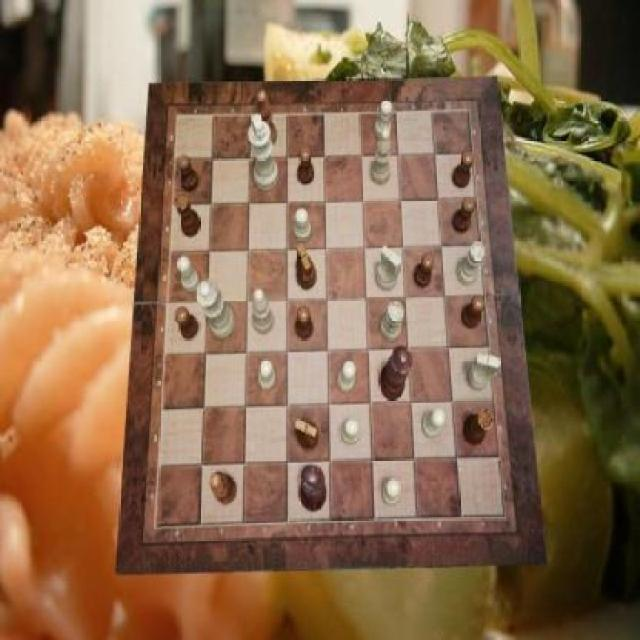bishop: (257, 89, 277, 147), (210, 470, 238, 504)
black-bishop: (300, 466, 328, 512)
black-king: (296, 243, 316, 289), (294, 418, 318, 451)
black-knight: (452, 151, 475, 188), (176, 306, 200, 340), (462, 296, 486, 330), (452, 199, 476, 233), (177, 156, 199, 192), (414, 252, 434, 287), (297, 146, 314, 184), (295, 305, 313, 339)
black-pawn: (378, 344, 412, 400)
black-queen: (175, 192, 200, 238), (463, 408, 493, 445)
black-rook: (371, 126, 392, 184), (252, 289, 275, 335)
white-bishop: (249, 114, 280, 192)
white-king: (468, 352, 500, 390), (377, 245, 401, 290)
white-knight: (177, 256, 200, 292), (374, 100, 391, 142), (423, 408, 446, 438), (294, 209, 311, 243), (339, 361, 356, 394), (259, 360, 276, 392), (340, 418, 360, 444), (382, 479, 401, 506)
white-pawn: (196, 280, 234, 340)
white-queen: (457, 242, 485, 286), (380, 303, 404, 343)
